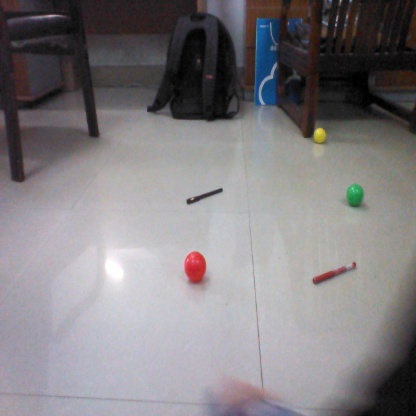ball: (181, 249, 210, 283), (344, 185, 366, 209), (313, 127, 330, 143)
pen: (311, 259, 356, 285), (186, 189, 224, 204)
